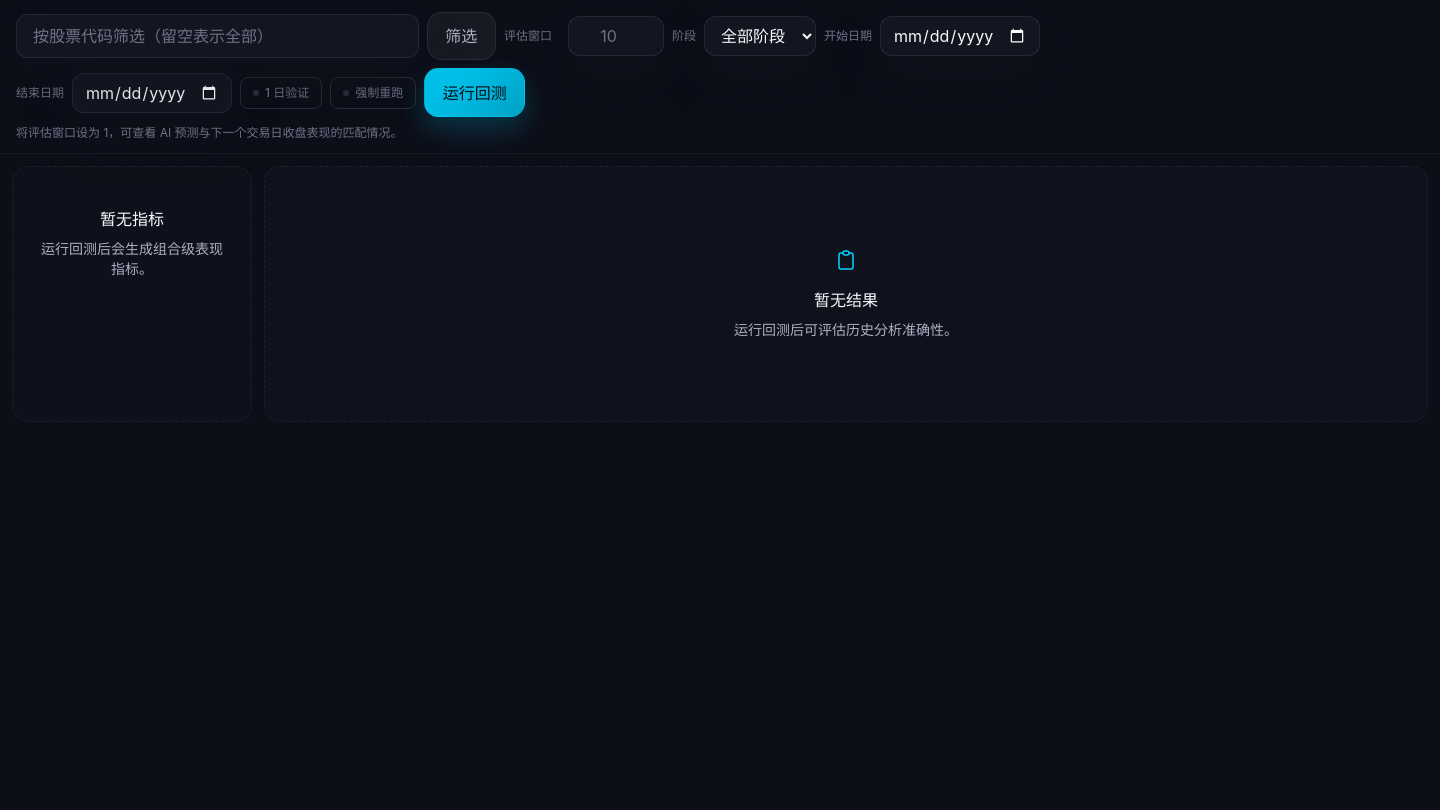
Test: BacktestPage › switches to next-day validation with the 1D shortcut
Expected: the field with placeholder "按股票代码筛选（留空表示全部）" is shown, [16,14,419,58]
Click the button "1 日验证".
click(281, 93)  # box [240,77,322,109]
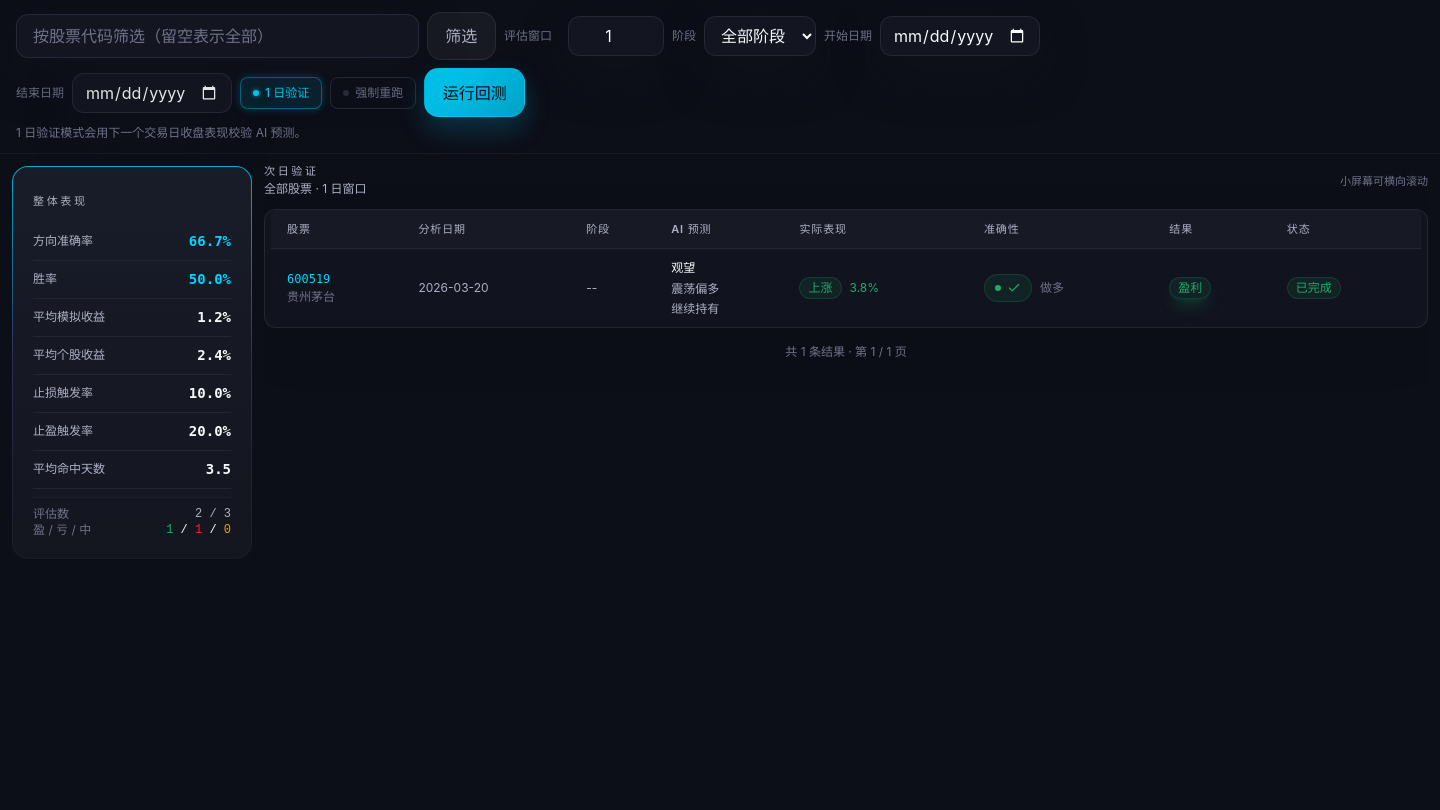
Expected: the column heading "准确性" is shown, [972,210,1157,250]
Expected: the column heading "实际表现" is shown, [788,210,972,250]
Expected: the text "1 日验证模式会用下一个交易日收盘表现校验 AI 预测。" is shown, [16,125,306,140]
